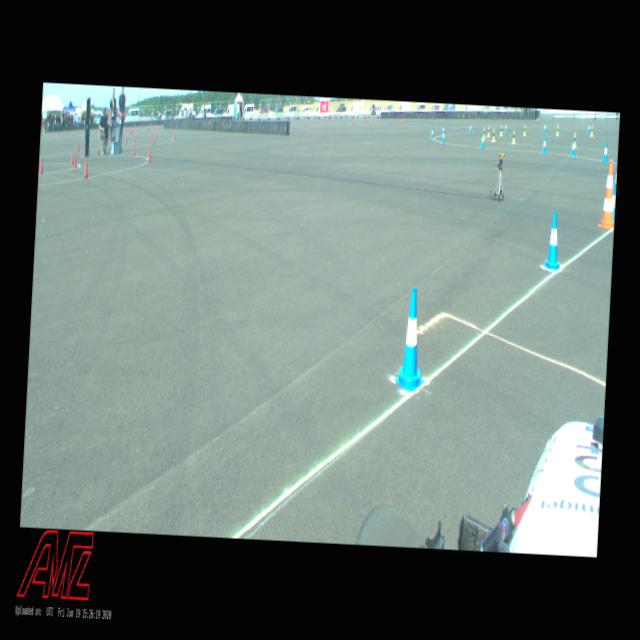blue_cone: (395, 286, 429, 393), (544, 212, 564, 270), (612, 182, 616, 222), (602, 142, 609, 162), (570, 139, 577, 157), (542, 136, 548, 154), (480, 134, 485, 149), (431, 127, 434, 139), (442, 132, 445, 143), (469, 124, 472, 132), (588, 123, 590, 134), (442, 126, 444, 136), (506, 124, 508, 134), (544, 122, 546, 132)
large_orange_cone: (598, 158, 618, 229)
yellow_cone: (491, 129, 497, 142), (511, 130, 516, 144), (574, 132, 578, 148), (486, 126, 491, 138), (499, 125, 504, 136), (522, 124, 526, 136), (556, 125, 560, 136), (590, 125, 594, 136), (483, 128, 486, 140)
